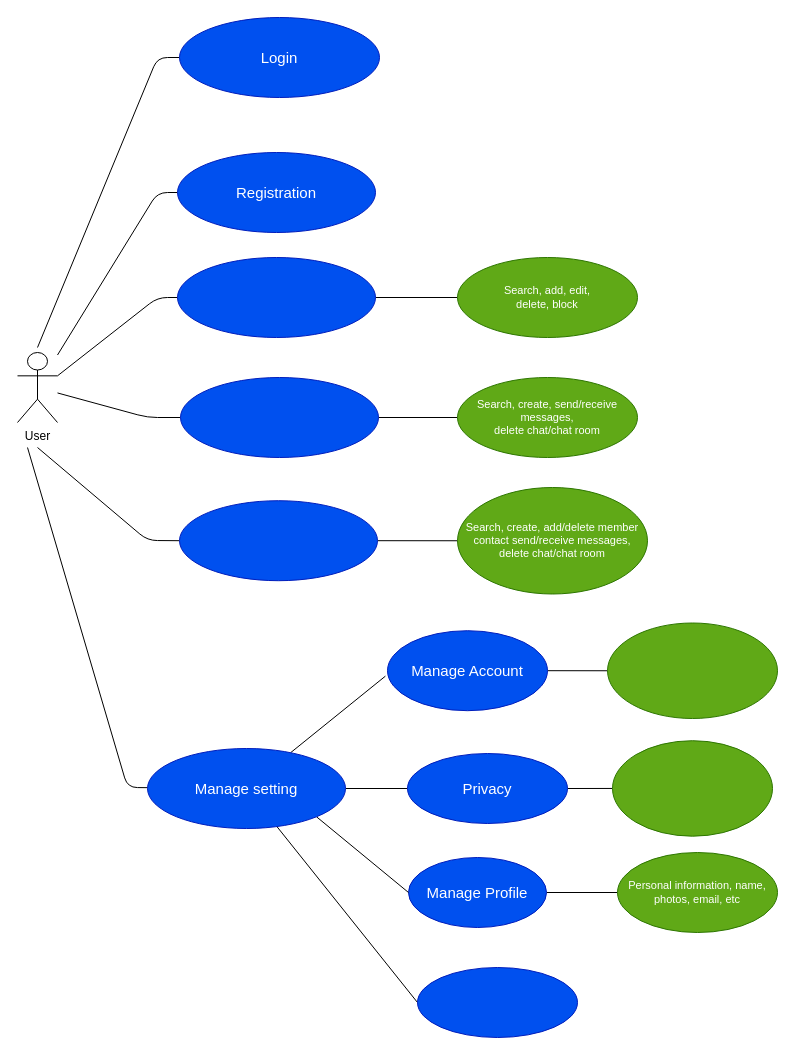
Some shapes in this 795 by 1055 pixel diagram are drawn without their labels. The centre of each missing label's shape, as x and y in pixels:
"Change number, change password, delete account" goes at (692,670).
"Language Setting" goes at (497,1002).
"Manage Contacts" goes at (276,297).
"Manage Group Chat Room" goes at (278,540).
"Manage Personal Chat Room" goes at (279,417).
"who can see profile picture, online status and info. block contact list." goes at (692,788).
